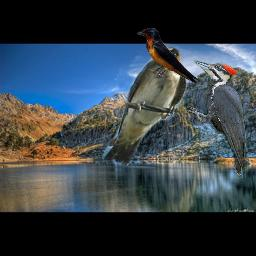Swallow: (101, 43, 187, 166), (137, 28, 198, 84)
Woodpecker: (187, 60, 251, 178)
